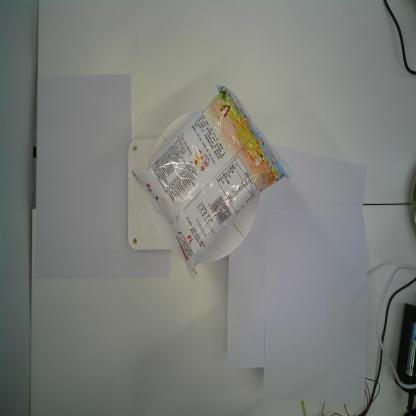Puffed Food: (129, 83, 294, 280)
